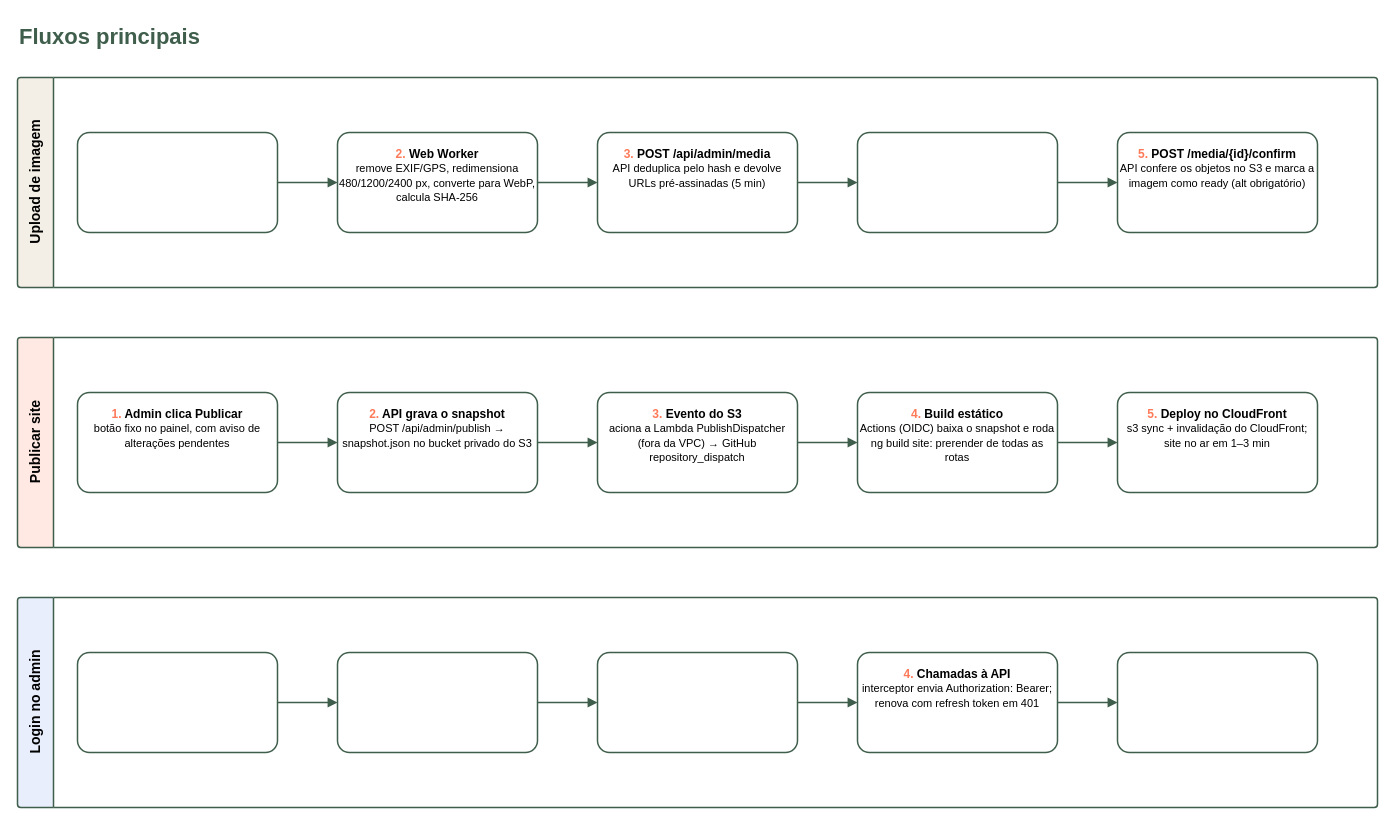
Some shapes in this 1396 by 825 pixel diagram are drawn without their labels. Each missing label, with the centre of its shape:
1. Abre o admin authGuard verifica a sessão; sem token, inicia o login: [177,702]
1. Entrada Ctrl+V, arrastar e soltar ou <input type=file> — um único handler: [177,182]
2. Cognito Hosted UI redirect com code_challenge (PKCE S256); MFA opcional: [437,702]
3. Callback /auth/callback troca o code por access/id/refresh token: [697,702]
4. PUT direto no S3 o navegador envia cada variante sem passar pela API: [957,182]
5. API Gateway + API JWT authorizer valida o token; a API exige o grupo admin: [1217,702]
